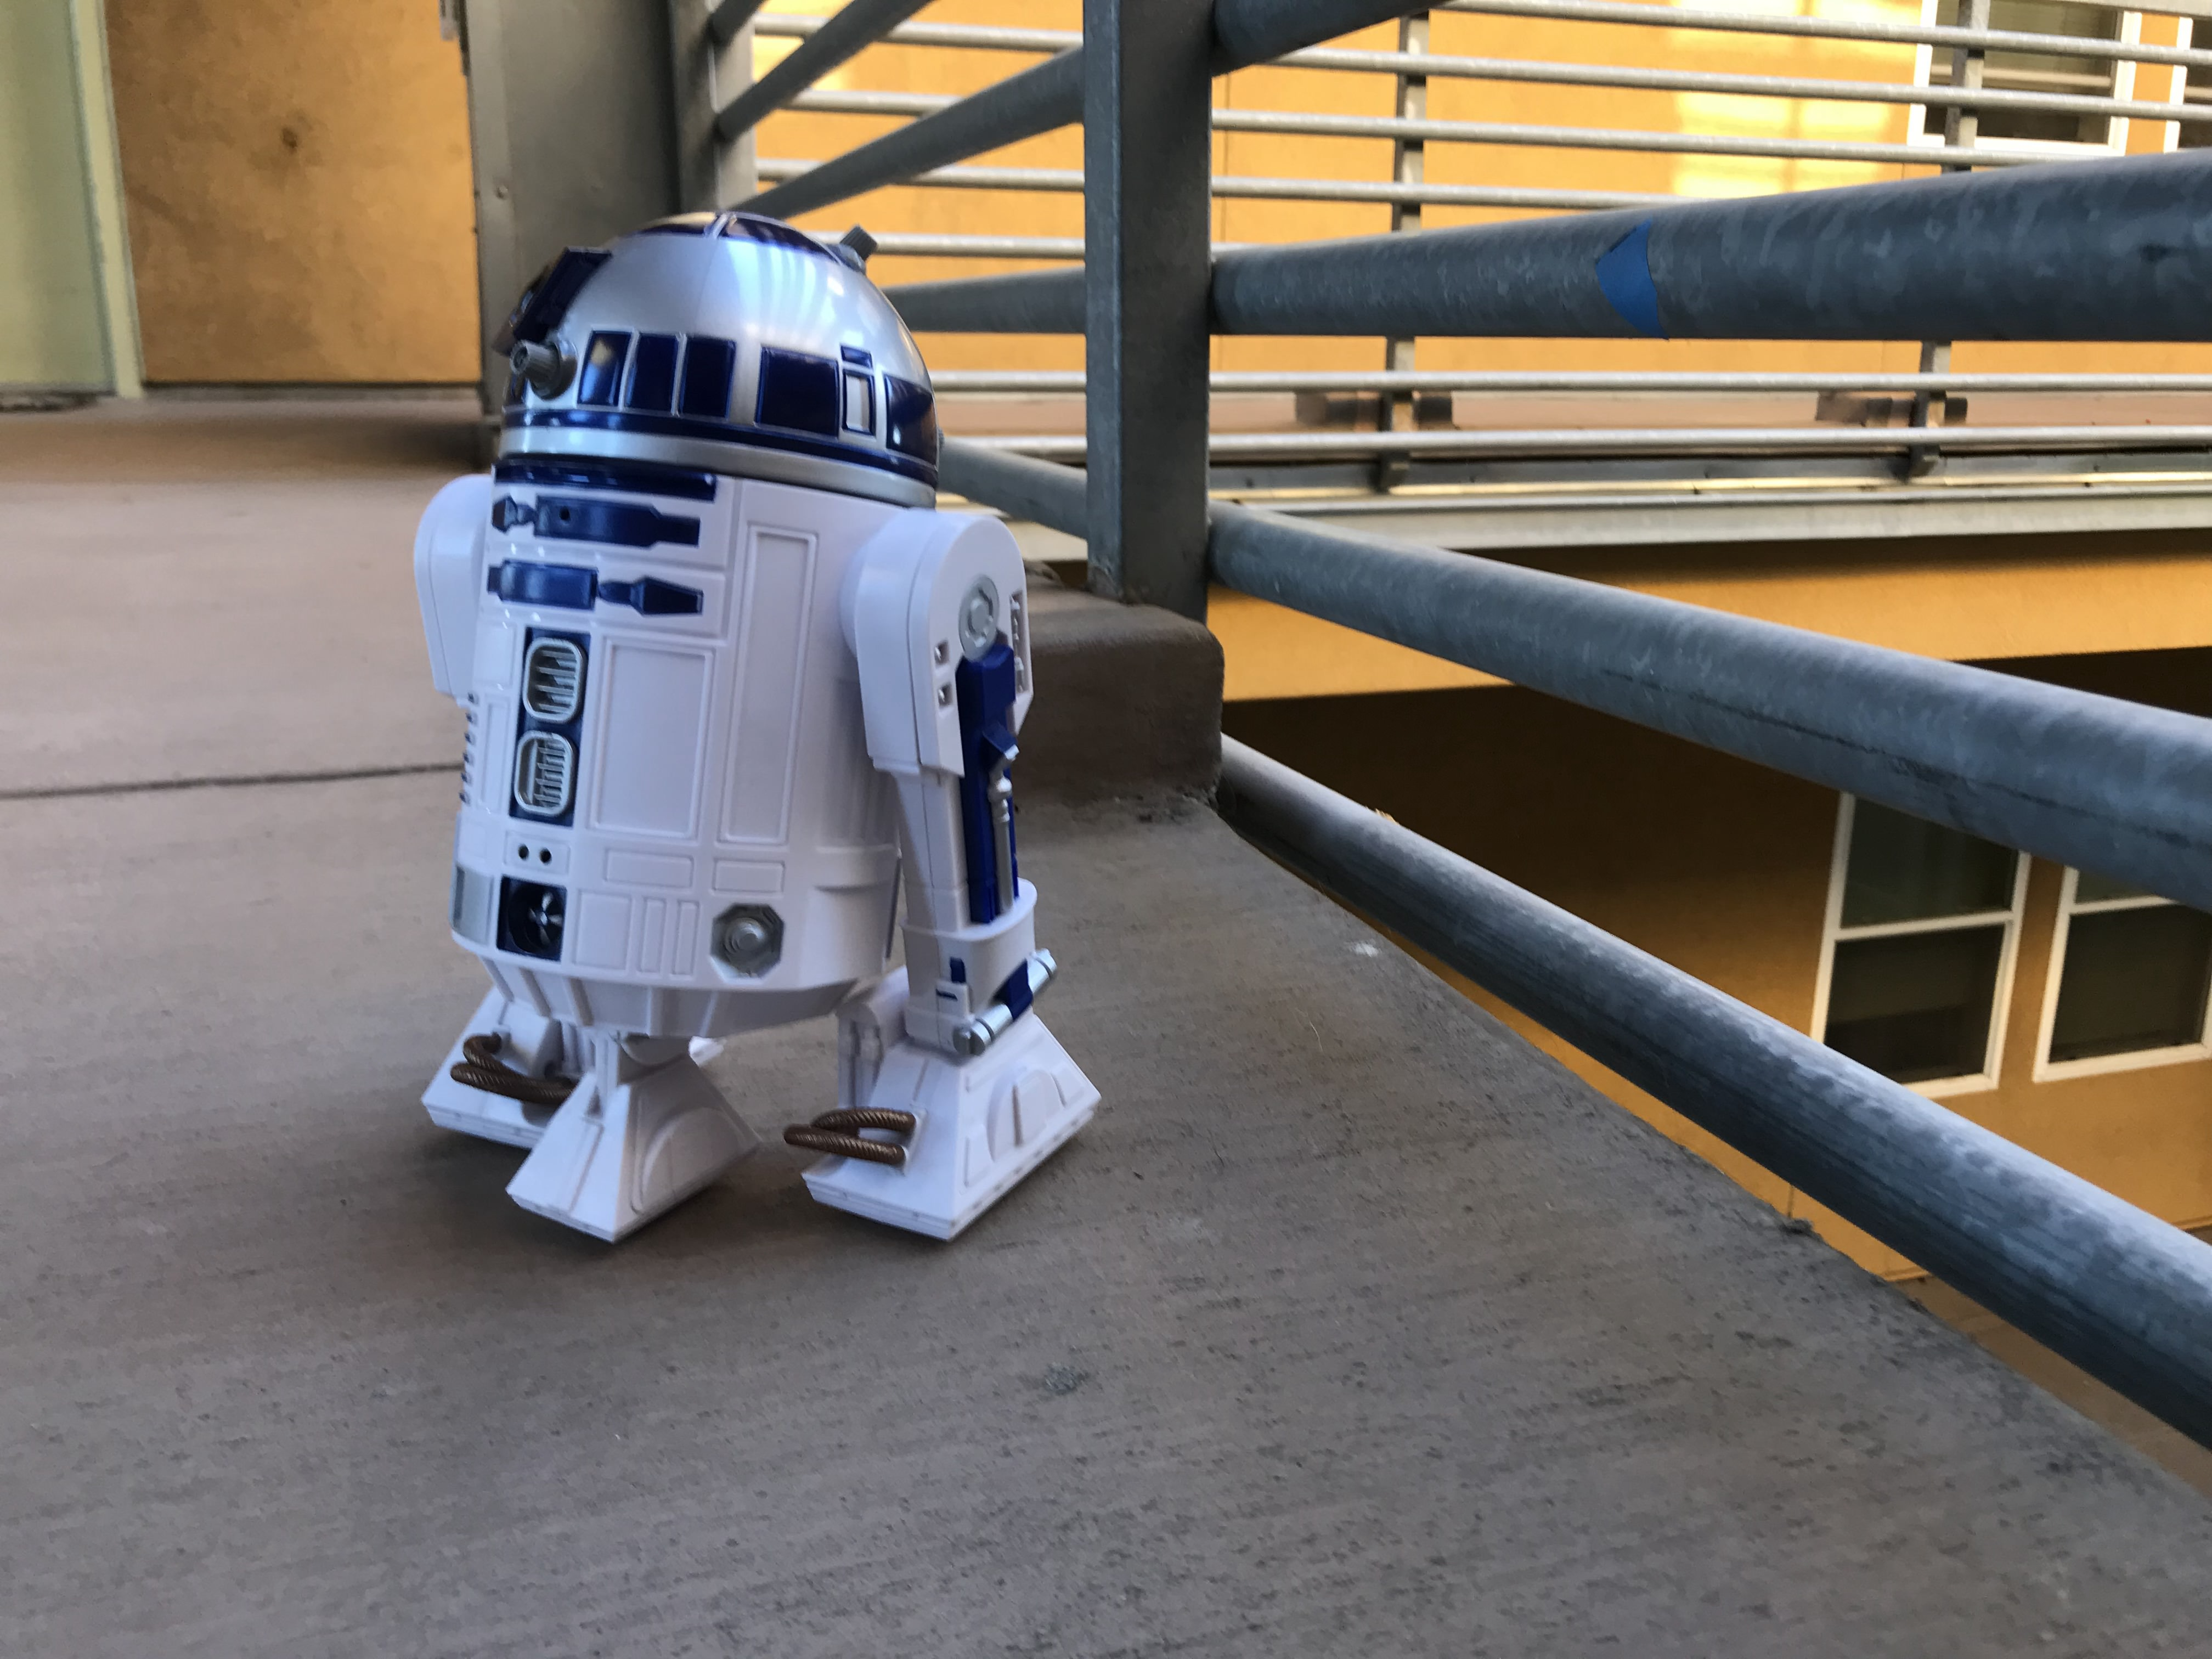r2d2: (420, 209, 1101, 1244)
